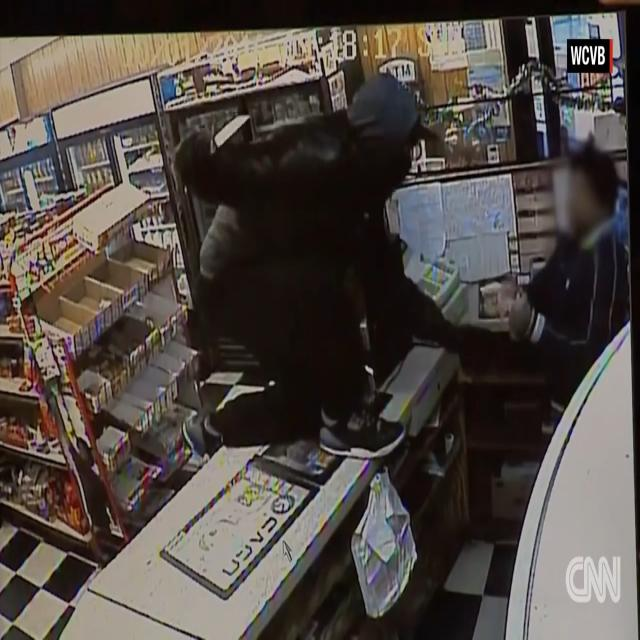Sharp-Object: (191, 112, 259, 156)
